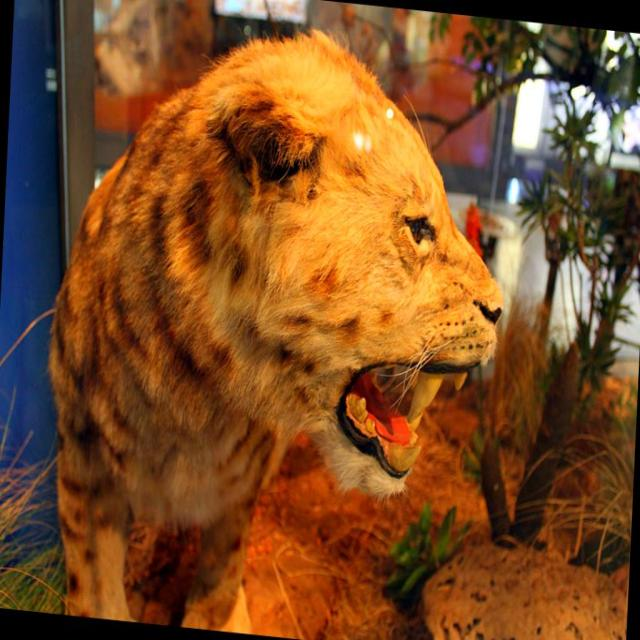Lion: (35, 0, 518, 639)
